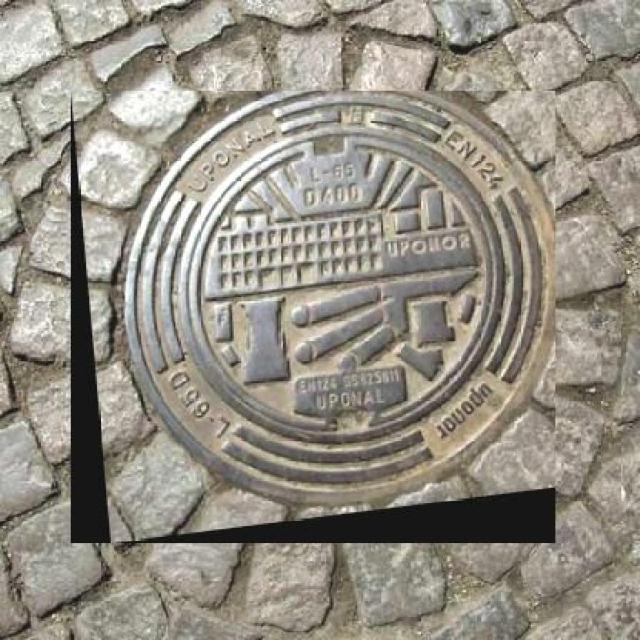Manhole: (70, 90, 556, 544)
